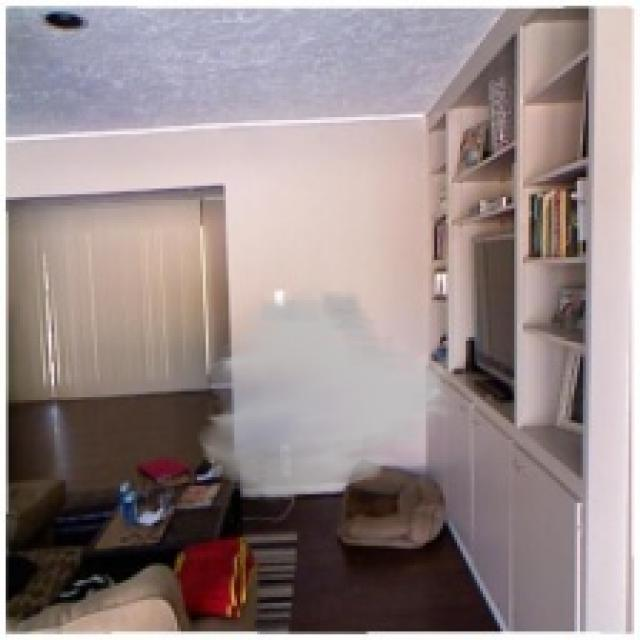smoke: (194, 286, 463, 503)
